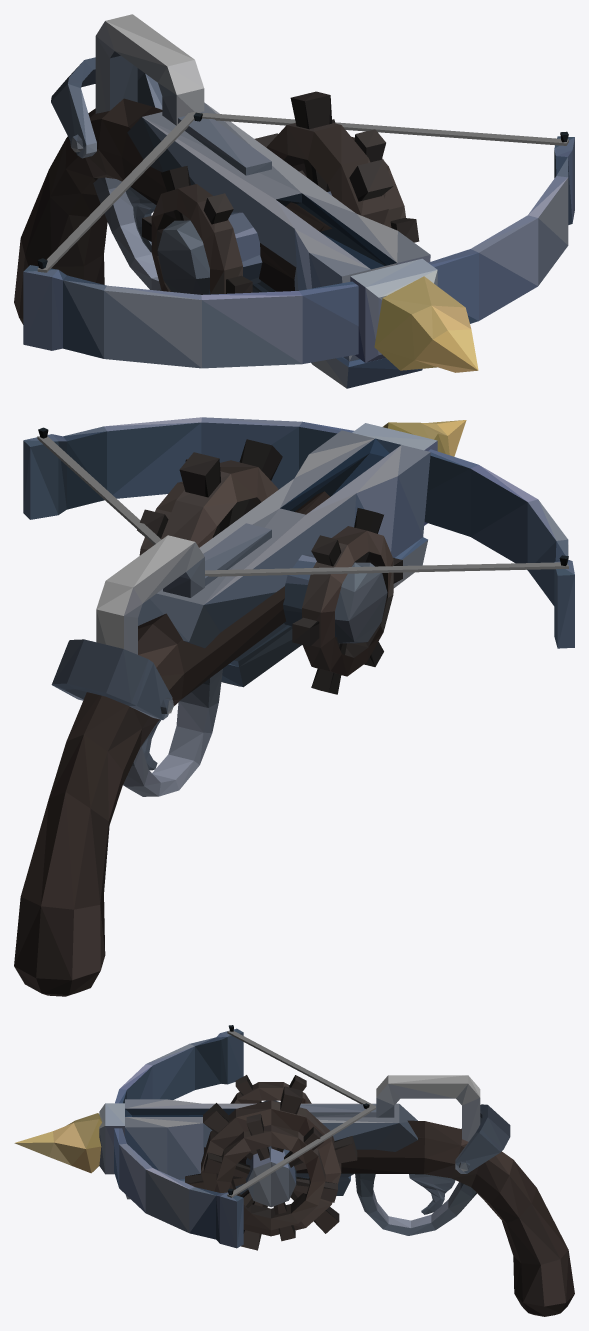
Rendered from weapon_crossbow_silver_2.fbx.
3 views of the same model, one above another, from view 1: azimuth 30°, elevation 25°; view 2: azimuth 150°, elevation 25°; view 3: azimuth 270°, elevation 25° (orthographic). The views are drawn at different scales.
Parts seen in each view (by area): view 1: weapon_crossbow_silver_2; view 2: weapon_crossbow_silver_2; view 3: weapon_crossbow_silver_2.
Boxes of the visible parts, bbox=[...] form: weapon_crossbow_silver_2: bbox=[14, 14, 574, 388]; weapon_crossbow_silver_2: bbox=[14, 417, 574, 996]; weapon_crossbow_silver_2: bbox=[14, 1025, 574, 1316].
Size of the model in its own units: 0.8673 by 0.5559 by 1.19.
